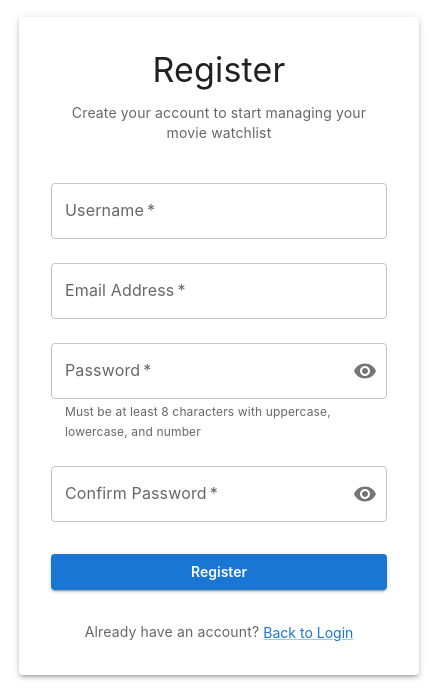
Test: RegisterForm › should show error message on registration failure
Type "existinguser" into the field labelled "Username *" at (219, 211), box top-left (51, 183), bottom-right (387, 239)
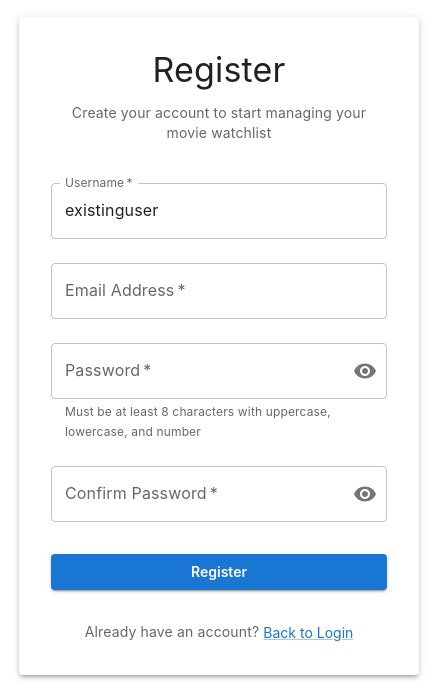
Type "existing@example.com" into the field labelled "Email Address *" at (219, 291), box top-left (51, 263), bottom-right (387, 319)
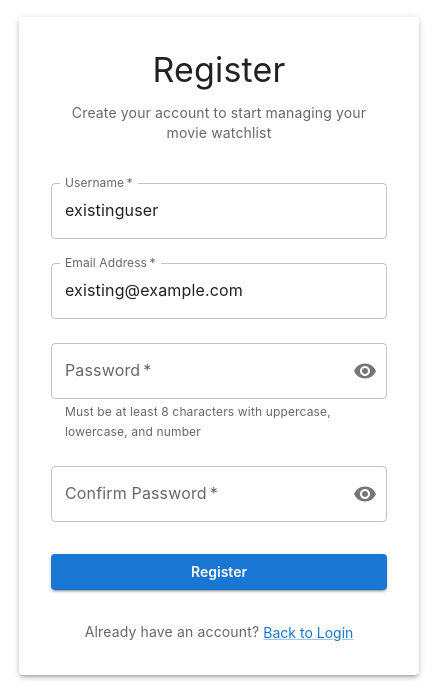
Type "Password123!" into the password field labelled "Password *" at (194, 371), box top-left (51, 343), bottom-right (337, 399)
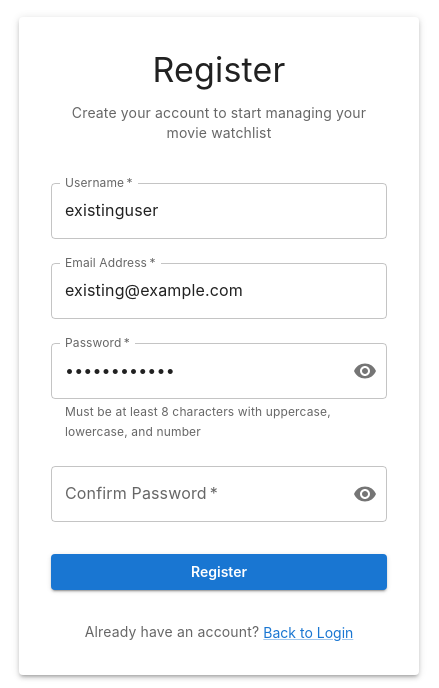
Type "Password123!" into the password field labelled "Confirm Password *" at (194, 494), box top-left (51, 466), bottom-right (337, 522)
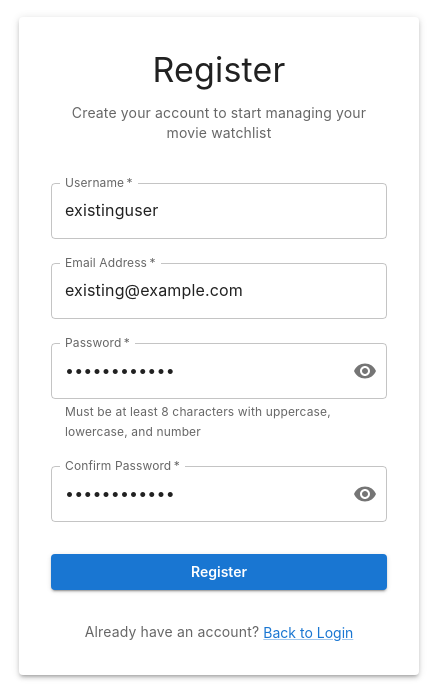
Click the button "Register" at (219, 572), box top-left (51, 554), bottom-right (387, 590)
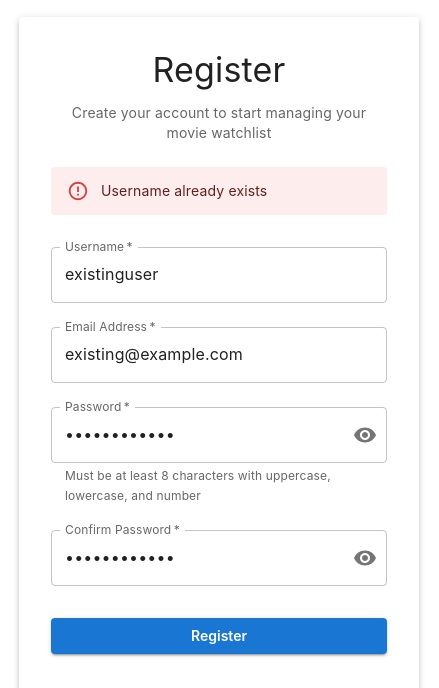
Check: the text "Username already exists" is shown, box top-left (101, 182), bottom-right (267, 199)
